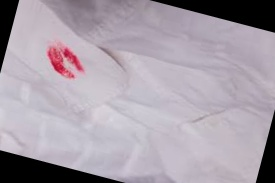lipstick: (43, 41, 92, 82)
